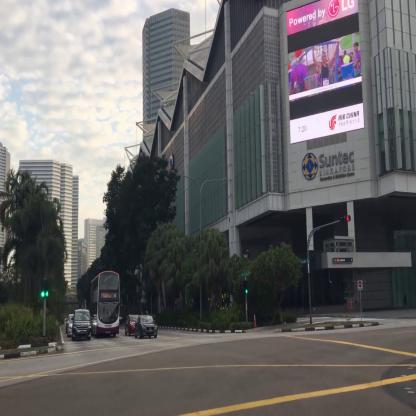green_traffic_light: (42, 280, 44, 297)
